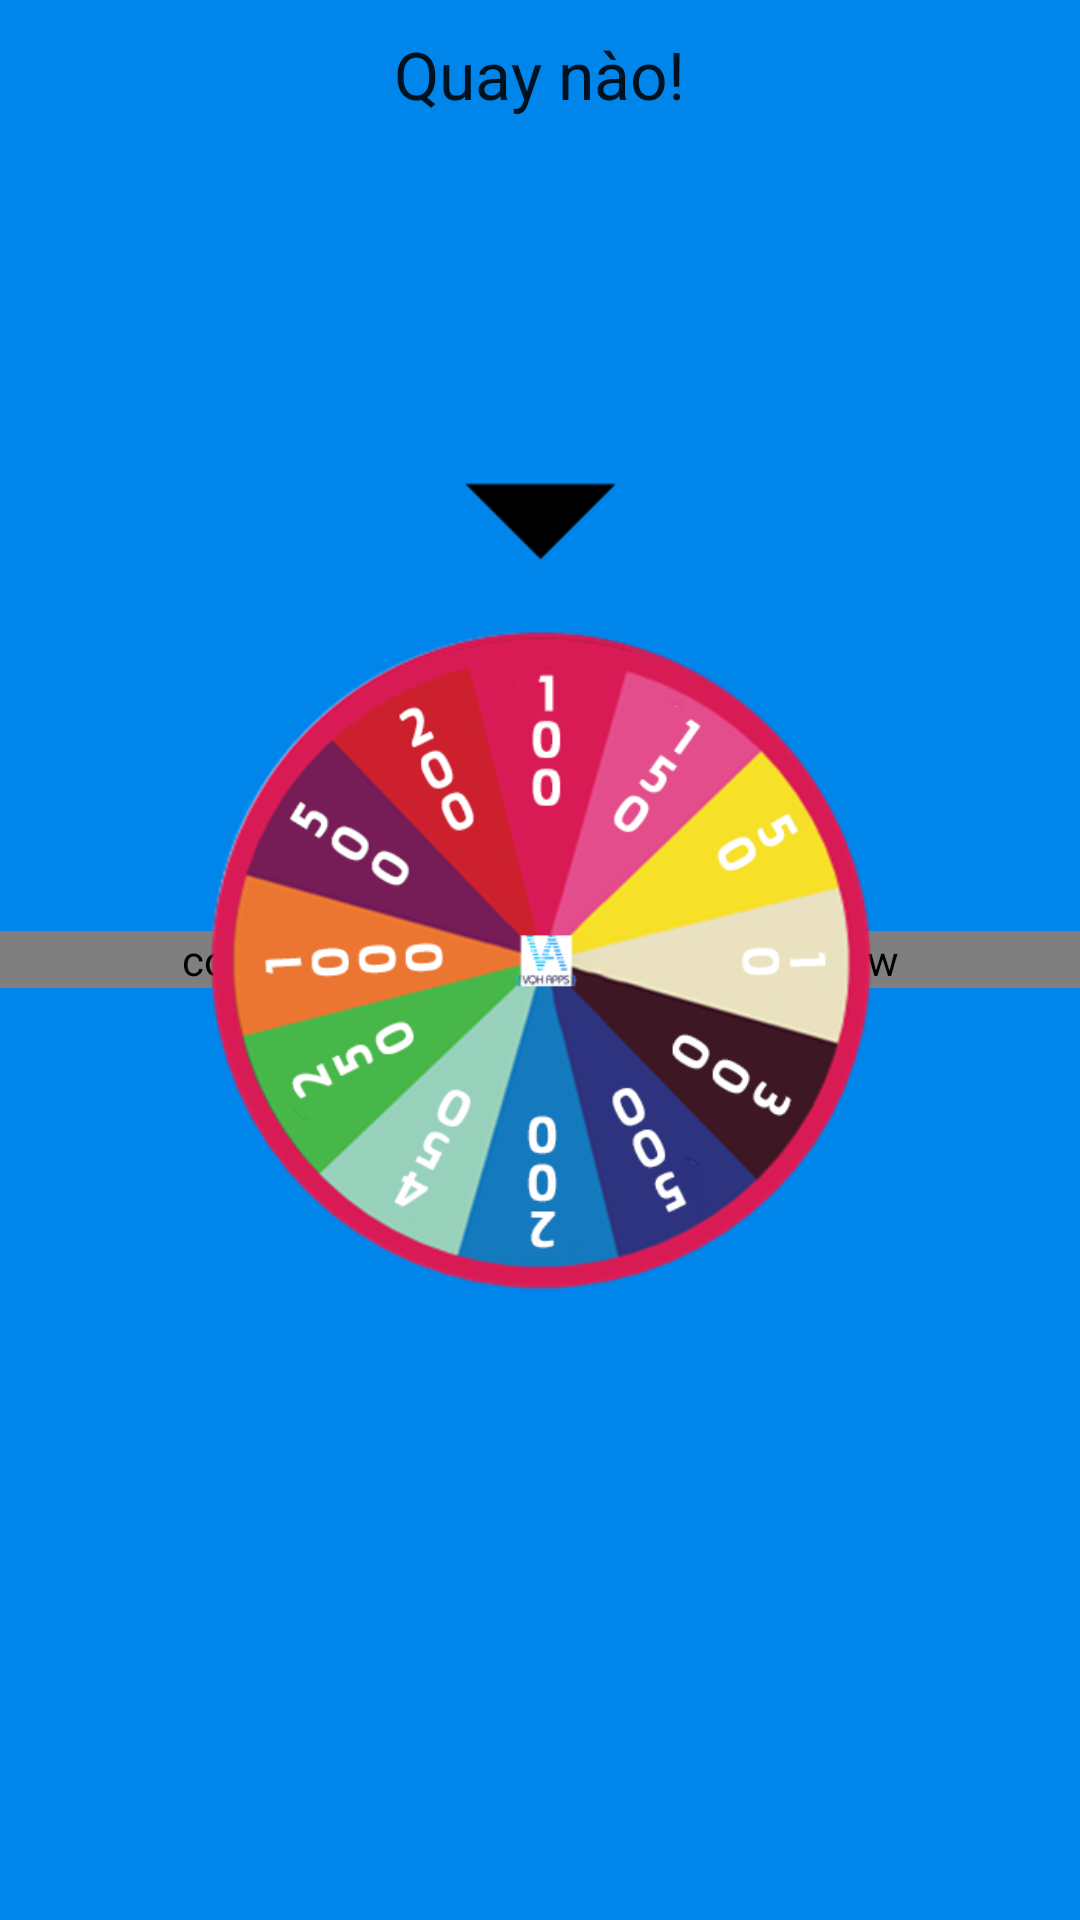

Where icons sit on this 1080w x 1920h app screen, as {"x1": x1, "y1": y1, "x2": x2, "y2": y2}:
arrow: {"x1": 465, "y1": 483, "x2": 615, "y2": 560}
